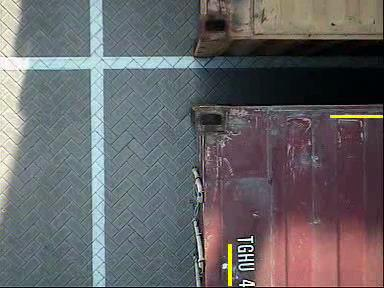groundmarker_2: (142, 21, 199, 57), (143, 167, 199, 203)
